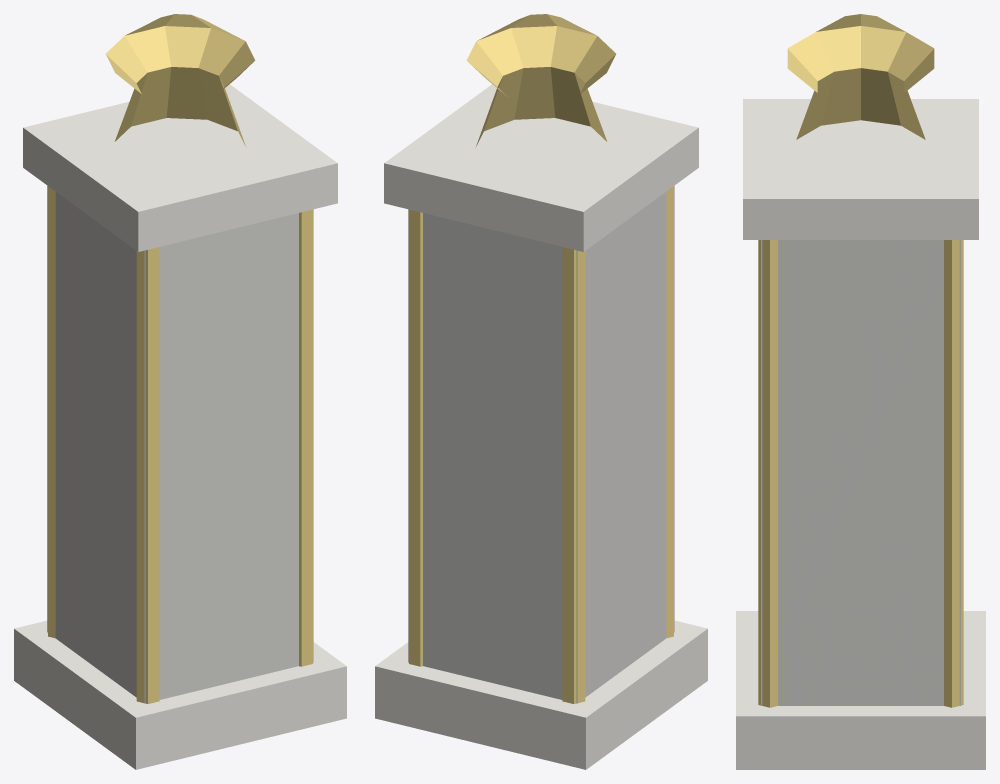
File: mythic-underworld-and-olympus-votive-pillar-7da10488__21392.glb
3 views of the same model, side by side, from view 1: azimuth 30°, elevation 25°; view 2: azimuth 150°, elevation 25°; view 3: azimuth 270°, elevation 25° (orthographic). The views are drawn at different scales.
Visible parts, largest first — view 1: votive-pillar; view 2: votive-pillar; view 3: votive-pillar.
Part boxes in pixels (box(x1,y1,x2,y2)): votive-pillar: box(14, 14, 346, 769); votive-pillar: box(375, 14, 707, 769); votive-pillar: box(736, 14, 985, 769).
Bounding box in the file's own units: 1.1 × 3.36 × 1.1.
